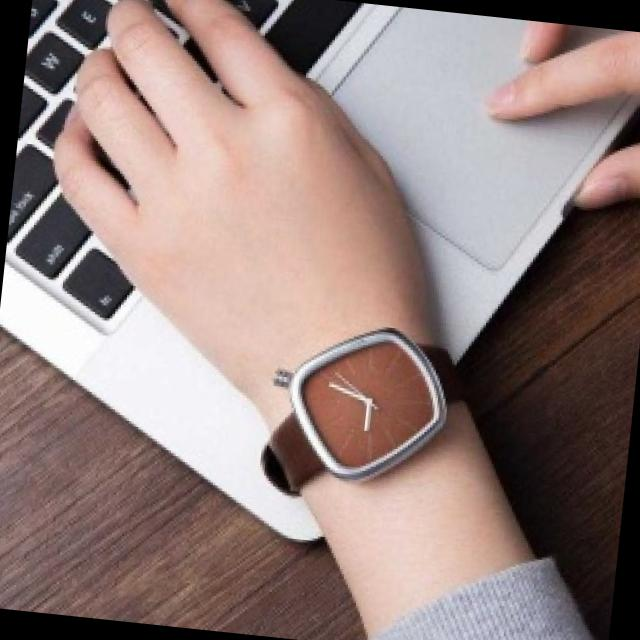saat: (218, 304, 508, 520)
